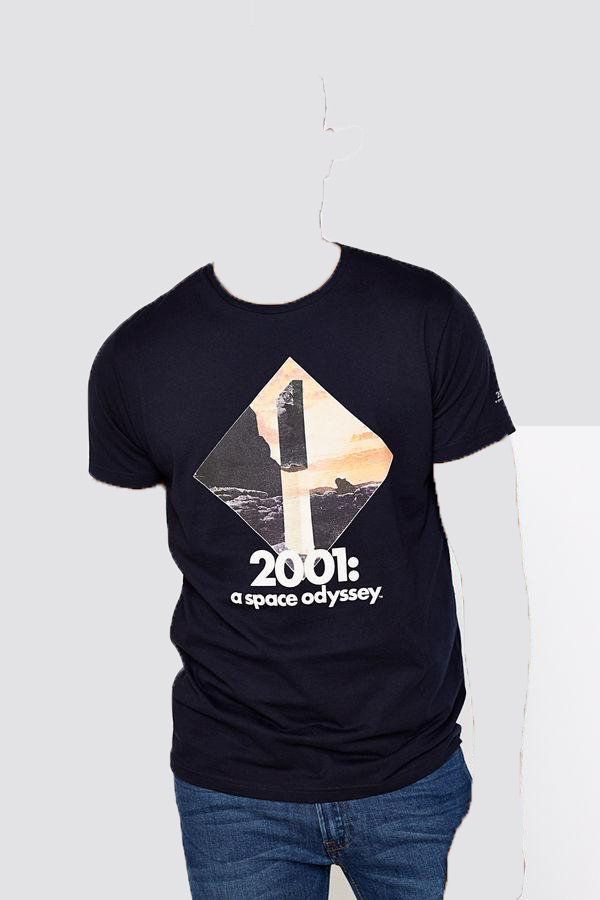teeshirt: (78, 238, 520, 799)
